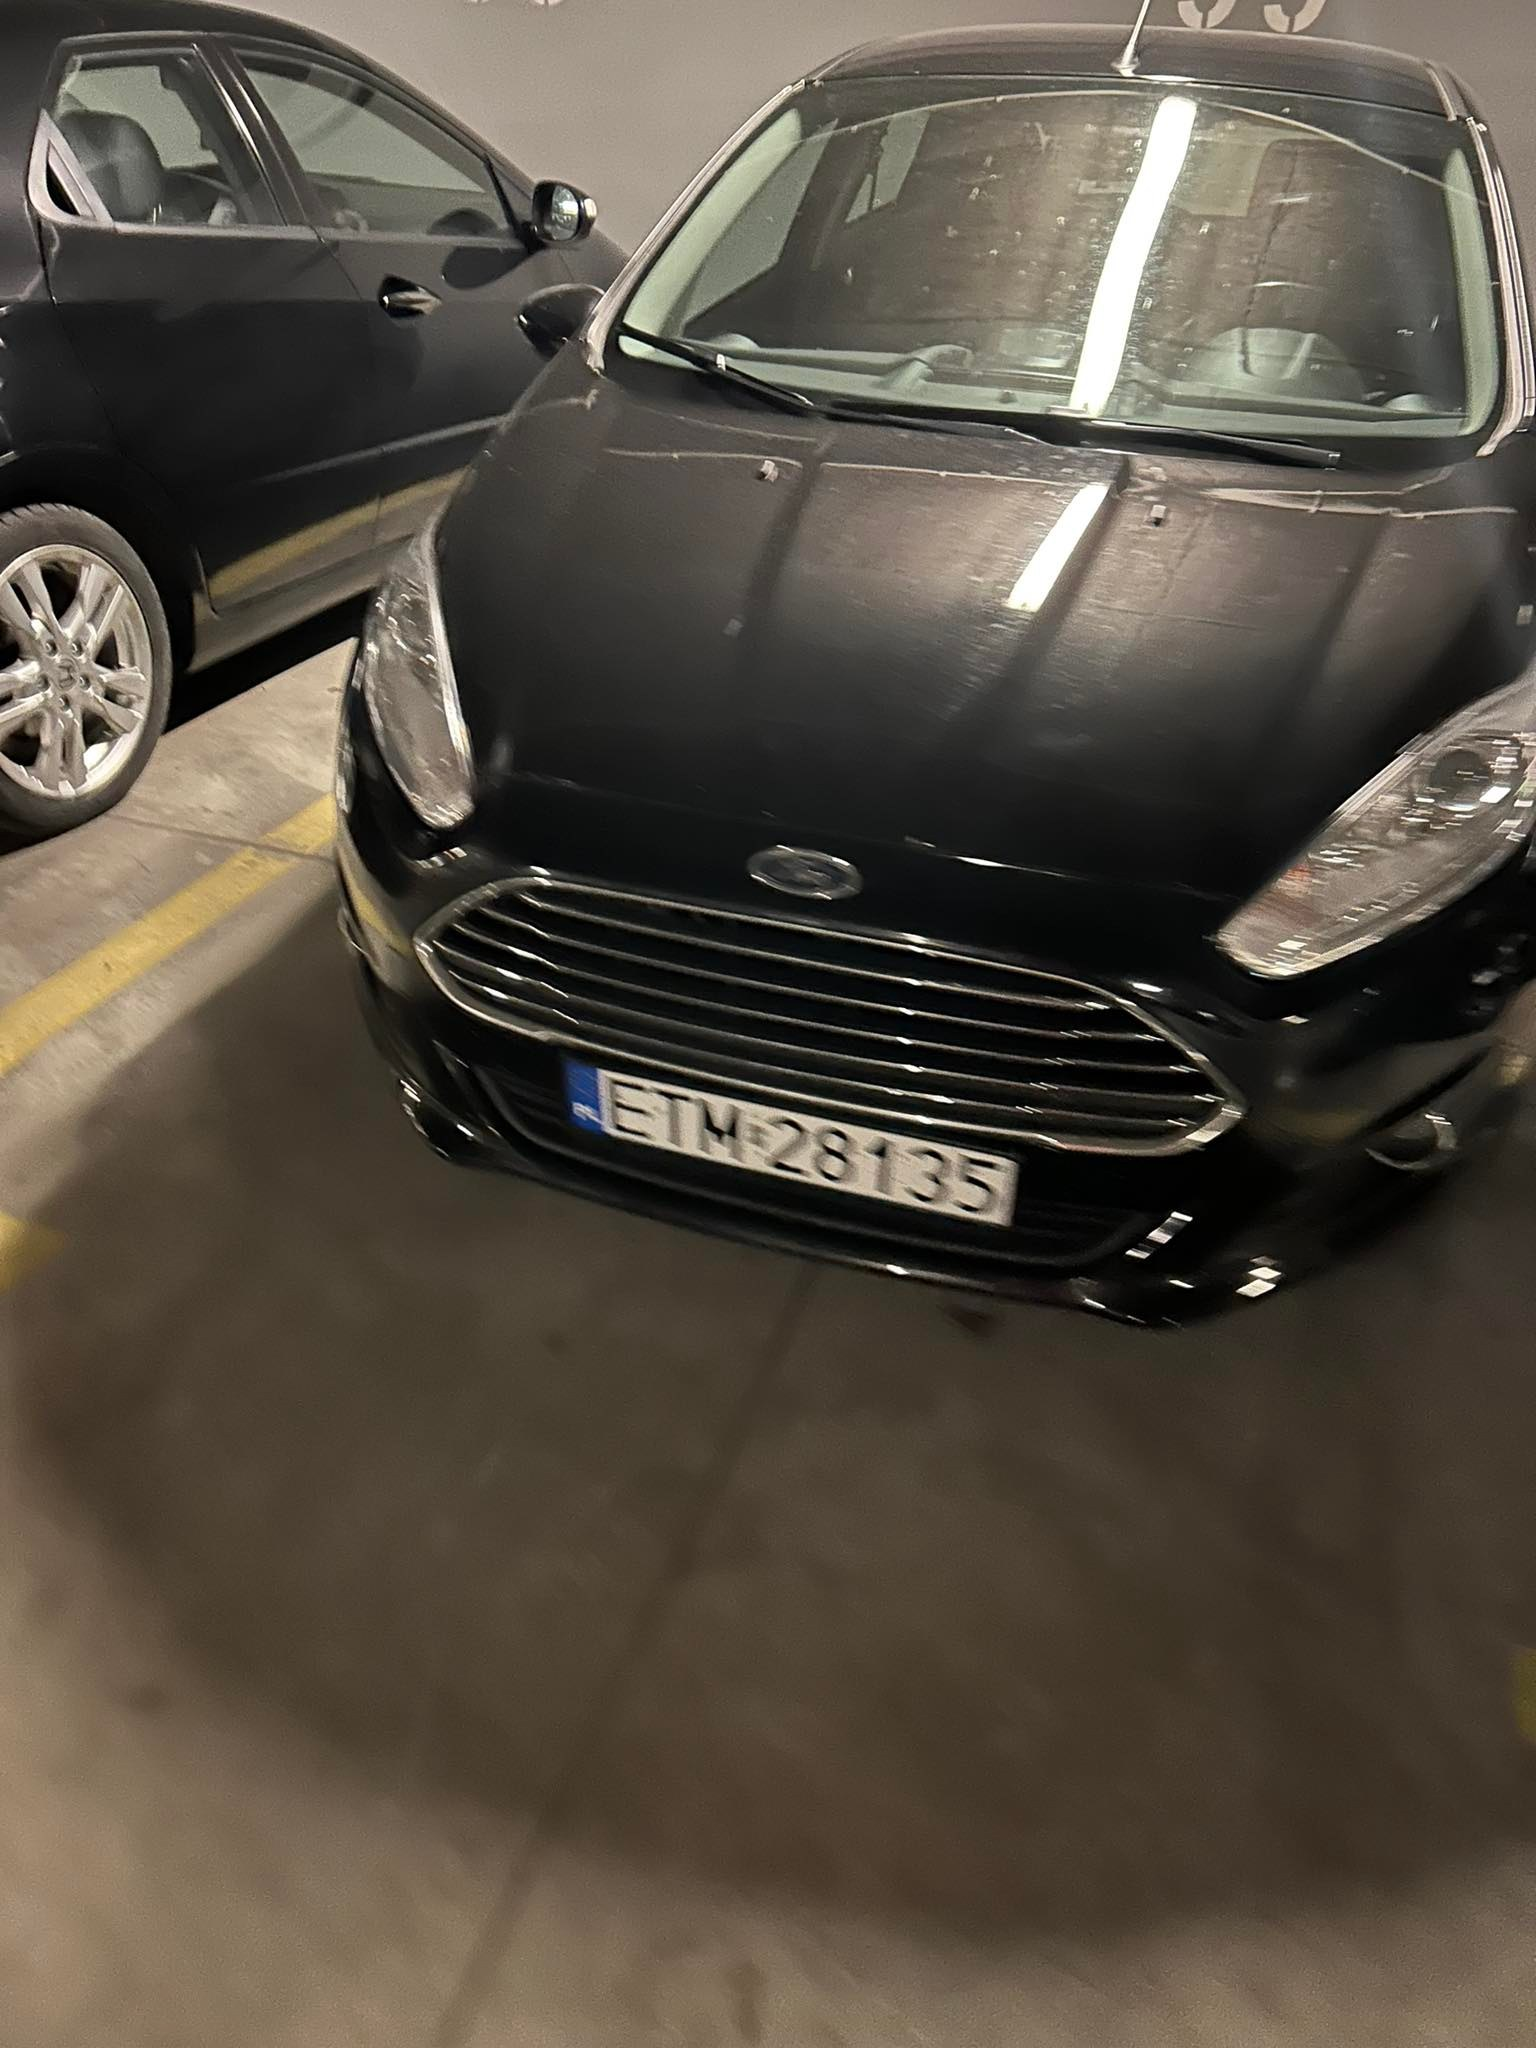number_plate: (561, 1045, 1016, 1248)
